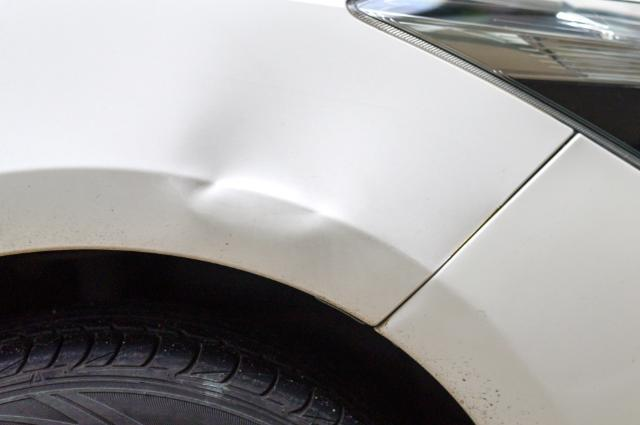Fender: (130, 120, 400, 312)
